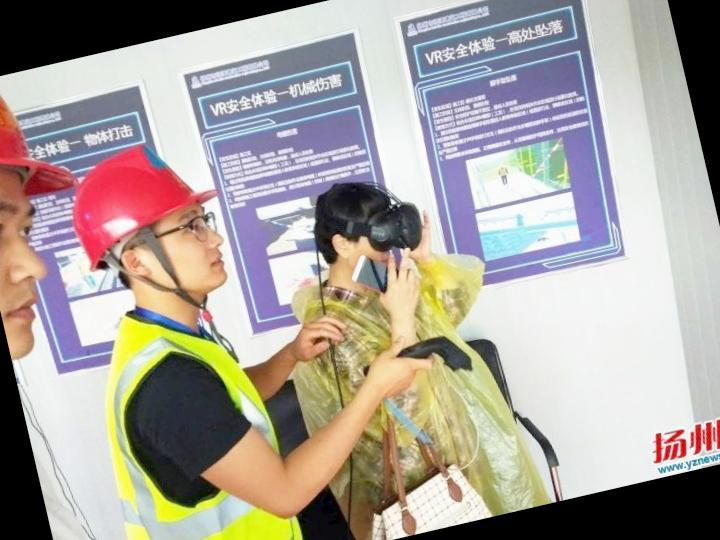helmet: (58, 138, 222, 260)
no_vest: (295, 259, 492, 524)
person: (45, 123, 343, 540), (273, 162, 510, 522)
